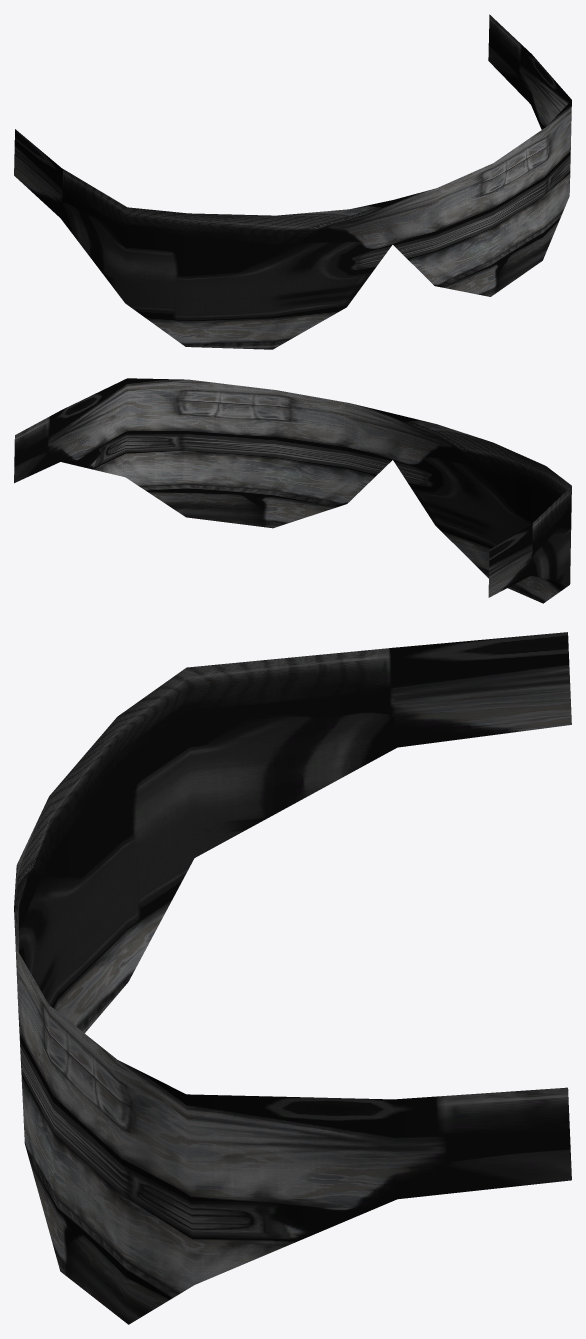
File: coolGlasses.fbx
3 renders of one model, top to bottom at view 1: azimuth 30°, elevation 25°; view 2: azimuth 150°, elevation 25°; view 3: azimuth 270°, elevation 25°, orthographic. The views are drawn at different scales.
Parts seen in each view (by area): view 1: SunGlasses_resources_assets_2107:SunGlasses_0; view 2: SunGlasses_resources_assets_2107:SunGlasses_0; view 3: SunGlasses_resources_assets_2107:SunGlasses_0.
Part boxes in pixels (x1=…): SunGlasses_resources_assets_2107:SunGlasses_0: x1=14, y1=14, x2=571, y2=349; SunGlasses_resources_assets_2107:SunGlasses_0: x1=14, y1=378, x2=571, y2=603; SunGlasses_resources_assets_2107:SunGlasses_0: x1=14, y1=632, x2=571, y2=1324.
Size of the model in its own units: 0.163 by 0.0518 by 0.0848.
